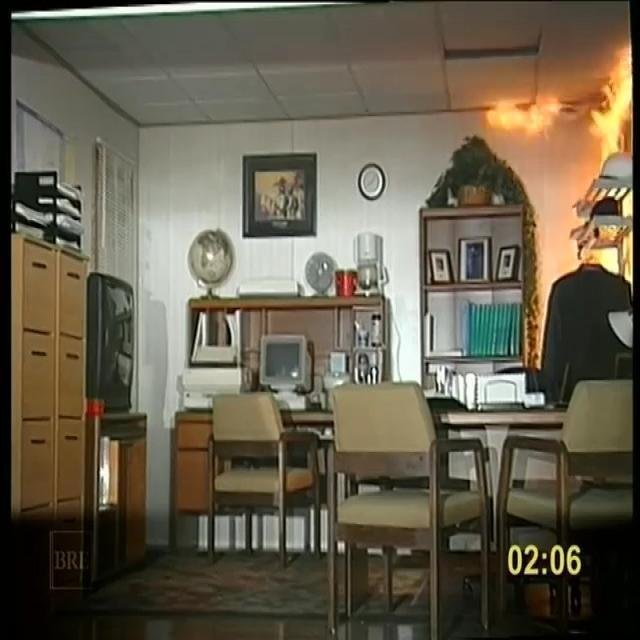Fire: (430, 1, 640, 301)
